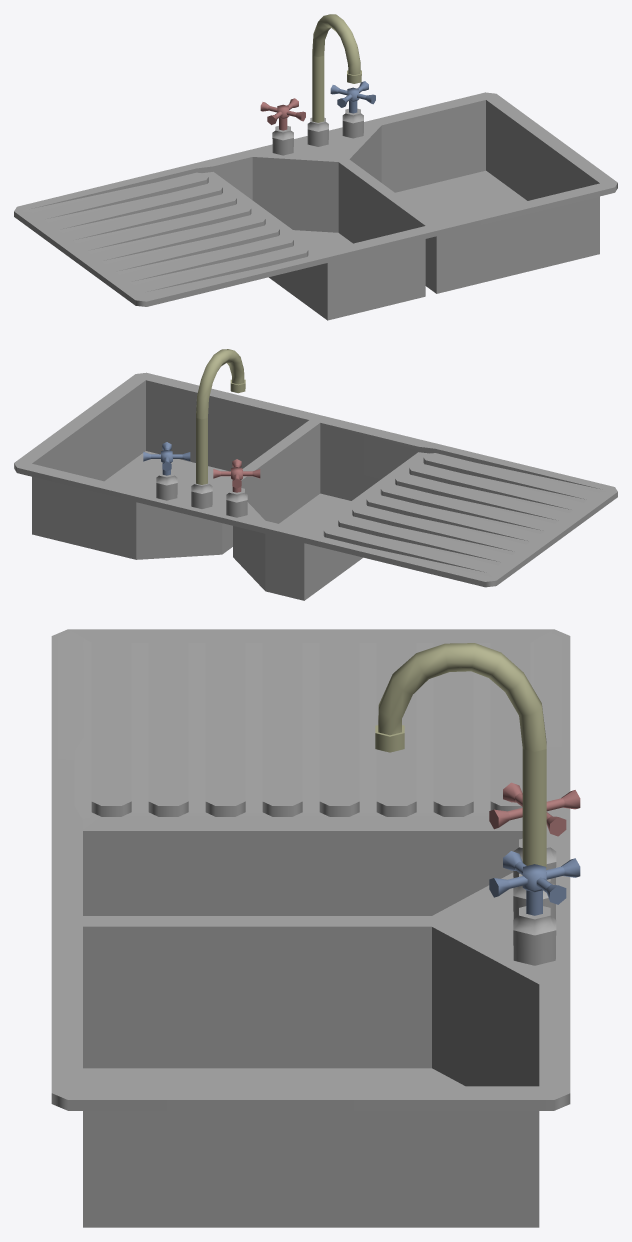
File: Sink.fbx
3 views of the same model, one above another, from view 1: azimuth 30°, elevation 25°; view 2: azimuth 150°, elevation 25°; view 3: azimuth 270°, elevation 25° (orthographic). The views are drawn at different scales.
Visible parts, largest first — view 1: Sink, Faucet, Hot_Handle, Cold_Handle; view 2: Sink, Faucet, Hot_Handle, Cold_Handle; view 3: Sink, Faucet, Cold_Handle, Hot_Handle.
Boxes of the visible parts, left/top/right/bottom form: Sink: left=14, top=92, right=617, bottom=320; Faucet: left=312, top=14, right=361, bottom=122; Hot_Handle: left=260, top=98, right=305, bottom=130; Cold_Handle: left=330, top=81, right=375, bottom=113; Sink: left=14, top=372, right=617, bottom=600; Faucet: left=196, top=349, right=245, bottom=484; Hot_Handle: left=213, top=459, right=260, bottom=492; Cold_Handle: left=143, top=442, right=190, bottom=475; Sink: left=51, top=629, right=570, bottom=1227; Faucet: left=375, top=643, right=546, bottom=875; Cold_Handle: left=489, top=851, right=580, bottom=915; Hot_Handle: left=489, top=782, right=580, bottom=836.
Size of the model in its own units: 125 by 56.17 by 59.3.
